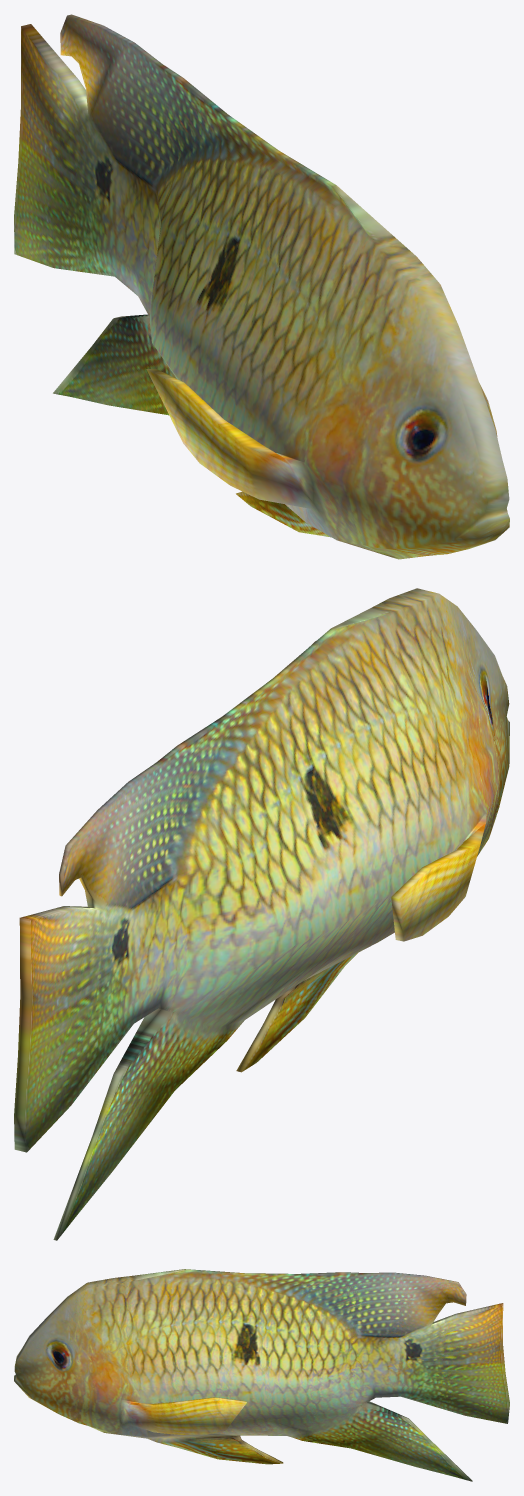
Rendered from TropicalFish03.fbx.
The picture shows the model from 3 angles, top to bottom: view 1: azimuth 30°, elevation 25°; view 2: azimuth 150°, elevation 25°; view 3: azimuth 270°, elevation 25°; orthographic projection. The views are drawn at different scales.
Visible parts, largest first — view 1: TropicalFish03; view 2: TropicalFish03; view 3: TropicalFish03.
Boxes of the visible parts, x1,y1,x2,y2 form: TropicalFish03: (14, 14, 509, 559); TropicalFish03: (14, 588, 509, 1240); TropicalFish03: (14, 1269, 509, 1481).
Size of the model in its own units: 147 by 482 by 227.
